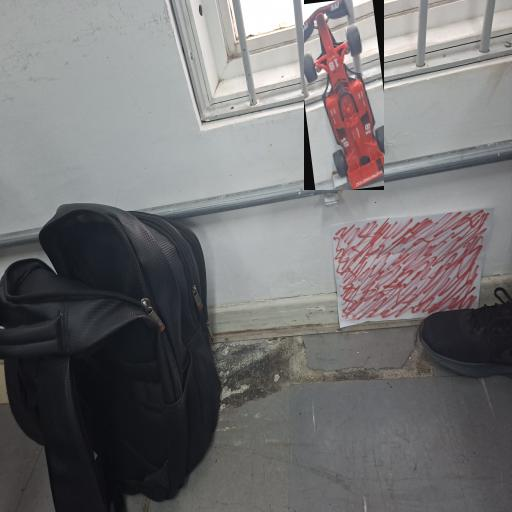carro: (304, 0, 384, 190)
